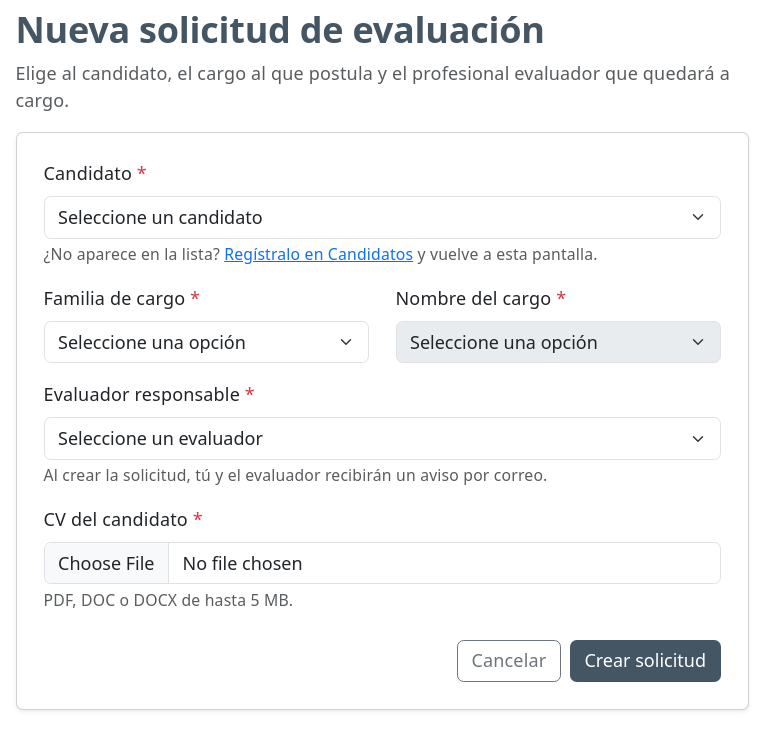
Test: FormularioSolicitud › muestra errores si se envía vacío
Step 1. Click the button "Crear solicitud" → click(645, 661), box 570,640 -> 720,682
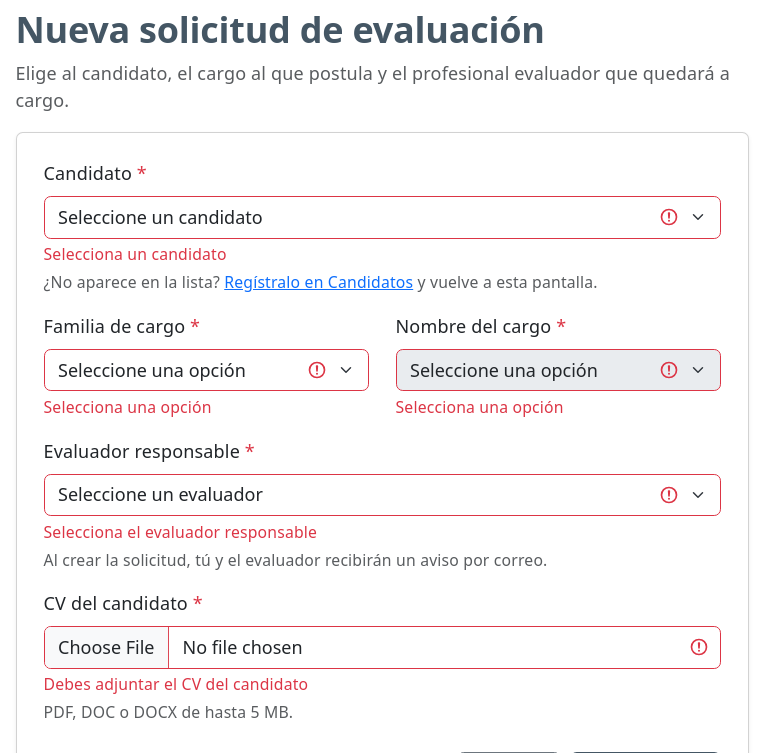
Check: the text "Selecciona un candidato" is shown, box 44,243 -> 227,265
Check: the text "Selecciona el evaluador responsable" is shown, box 44,521 -> 317,543
Check: the text "Debes adjuntar el CV del candidato" is shown, box 44,673 -> 308,695
